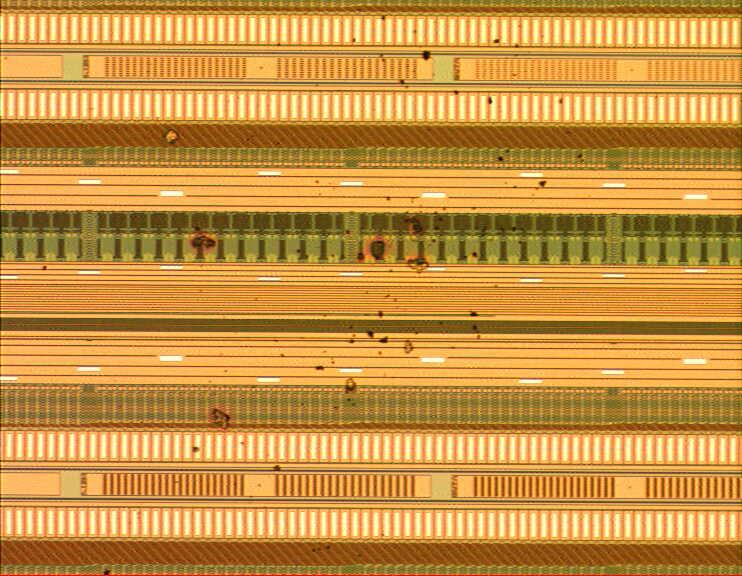PO CONTAMINATION: (39, 15, 586, 576)
